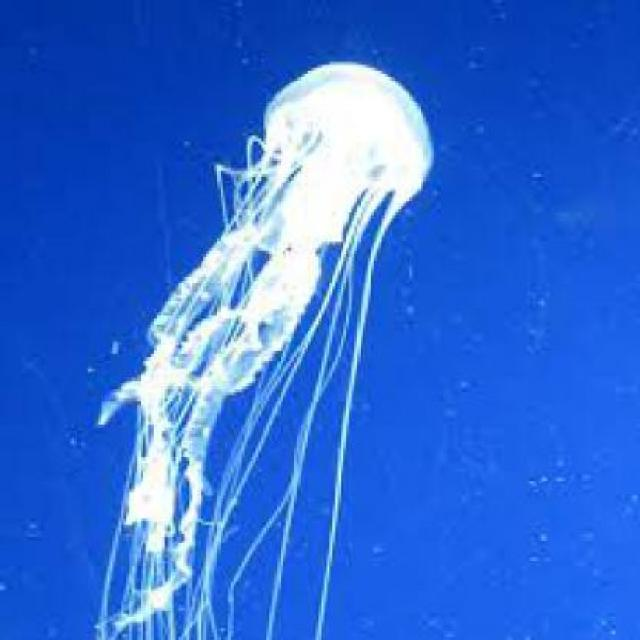Jellyfish: (85, 41, 438, 637)
